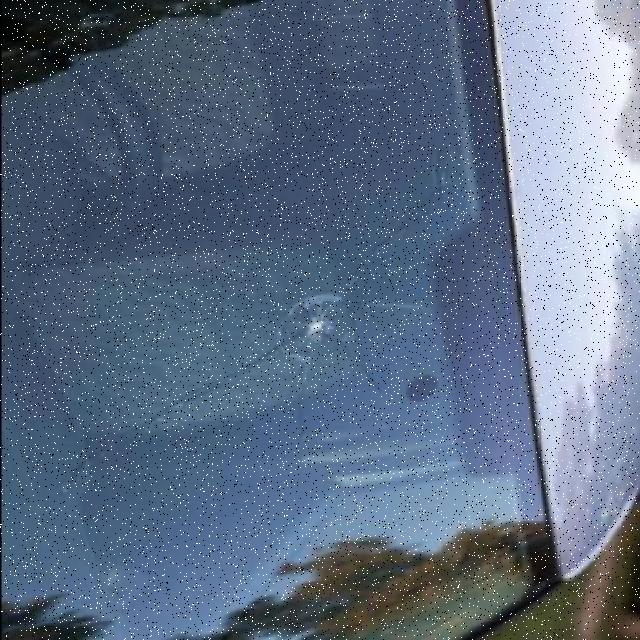damage: (276, 294, 371, 375)
